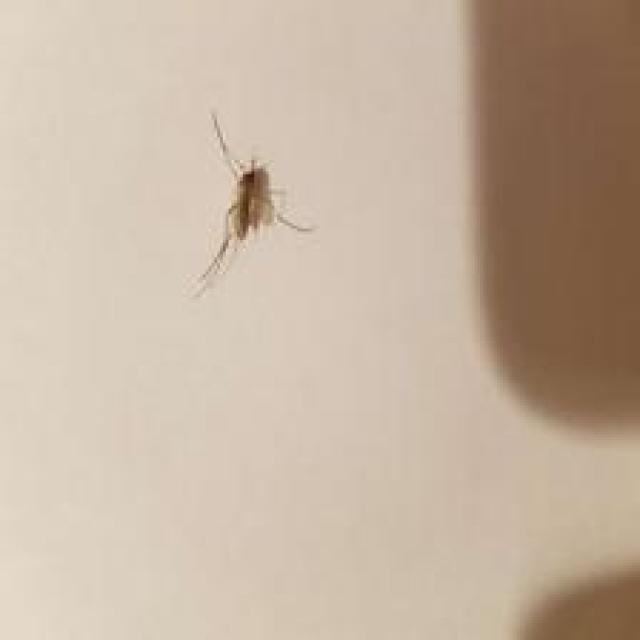Culex: (190, 110, 316, 299)
